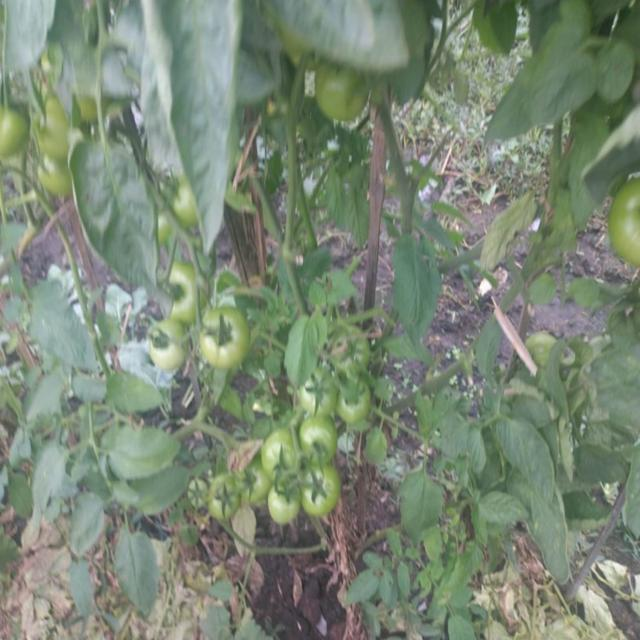tomato: (197, 303, 256, 363), (318, 60, 367, 126), (605, 176, 640, 268), (35, 90, 77, 158), (300, 468, 344, 516), (297, 420, 339, 469), (146, 322, 187, 371), (297, 369, 335, 417), (38, 159, 79, 200), (339, 374, 371, 426), (263, 430, 298, 477), (522, 331, 562, 371), (167, 265, 197, 317), (3, 103, 30, 160), (175, 177, 206, 225), (268, 481, 301, 524), (211, 472, 239, 522), (239, 463, 267, 505), (76, 91, 104, 125), (186, 481, 208, 510), (158, 212, 171, 243)
